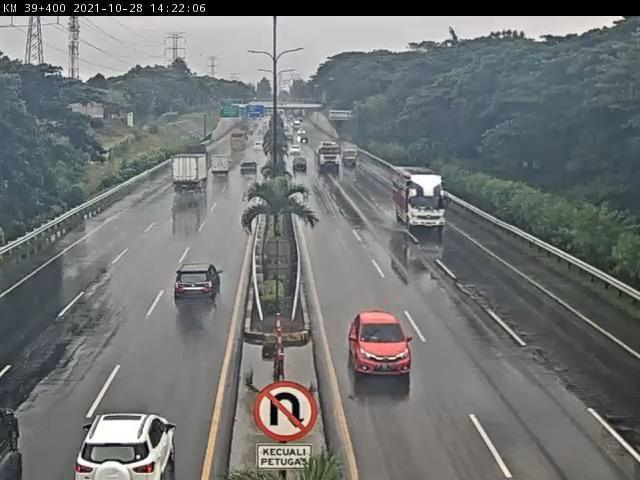car: (77, 408, 185, 480), (347, 311, 413, 385), (173, 264, 226, 307), (240, 159, 260, 180)
truck: (392, 165, 450, 233), (169, 153, 210, 193), (211, 154, 236, 181)
